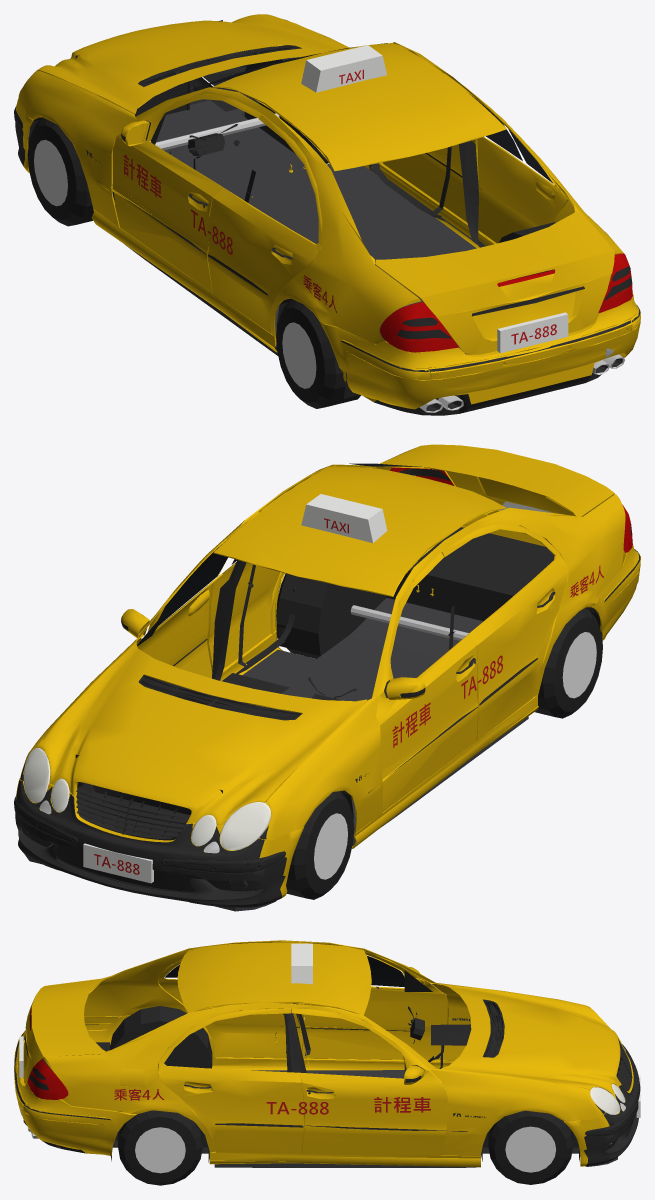
Rendered from benz-e55-taxi.glb.
The picture shows the model from 3 angles, top to bottom: view 1: azimuth 30°, elevation 25°; view 2: azimuth 150°, elevation 25°; view 3: azimuth 270°, elevation 25°; orthographic projection. The views are drawn at different scales.
Parts seen in each view (by area): view 1: Taxi_Body, Chassis_Base, Wheel_RL, Wheel_FL, Rear_Valance, Roof_TaxiSign, Plate_Rear, Chassis_WheelWells, Chassis_Axle_F; view 2: Taxi_Body, Chassis_Base, Rear_Valance, Chassis_WheelWells, Wheel_FL, Wheel_RL, Roof_TaxiSign, Plate_Front, Chassis_Axle_R; view 3: Taxi_Body, Wheel_RR, Wheel_FR, Chassis_WheelWells, Chassis_Base, Roof_TaxiSign, Decal_計程車_R, Decal_TA-888_R.
Part boxes in pixels (x1,y1,x2,y2): Taxi_Body: (14,14,640,412); Chassis_Base: (126,100,476,355); Wheel_RL: (276,299,360,408); Wheel_FL: (27,117,93,226); Rear_Valance: (363,307,603,415); Roof_TaxiSign: (301,45,386,92); Plate_Rear: (497,312,568,353); Chassis_WheelWells: (28,57,555,398); Chassis_Axle_F: (155,113,279,150); Taxi_Body: (14,444,640,907); Chassis_Base: (24,598,528,911); Rear_Valance: (386,527,606,640); Chassis_WheelWells: (246,574,602,885); Wheel_FL: (286,791,354,899); Wheel_RL: (535,608,602,718); Roof_TaxiSign: (301,494,387,542); Plate_Front: (83,843,153,883); Chassis_Axle_R: (350,605,468,640); Taxi_Body: (14,940,640,1167); Wheel_RR: (118,1110,202,1185); Wheel_FR: (488,1110,573,1184); Chassis_WheelWells: (109,1006,580,1162); Chassis_Base: (113,1070,617,1167); Roof_TaxiSign: (291,943,312,984); Decal_計程車_R: (374,1097,430,1112); Decal_TA-888_R: (266,1102,328,1114).
Size of the model in its own units: 0.0309 by 0.0242 by 0.0751.
